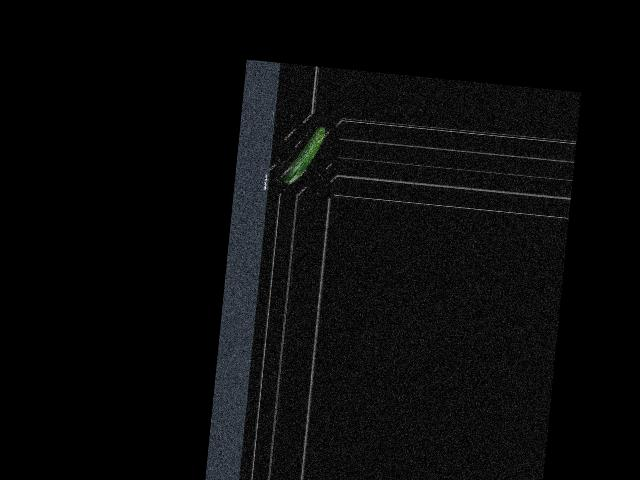cucumber: (282, 122, 326, 187)
